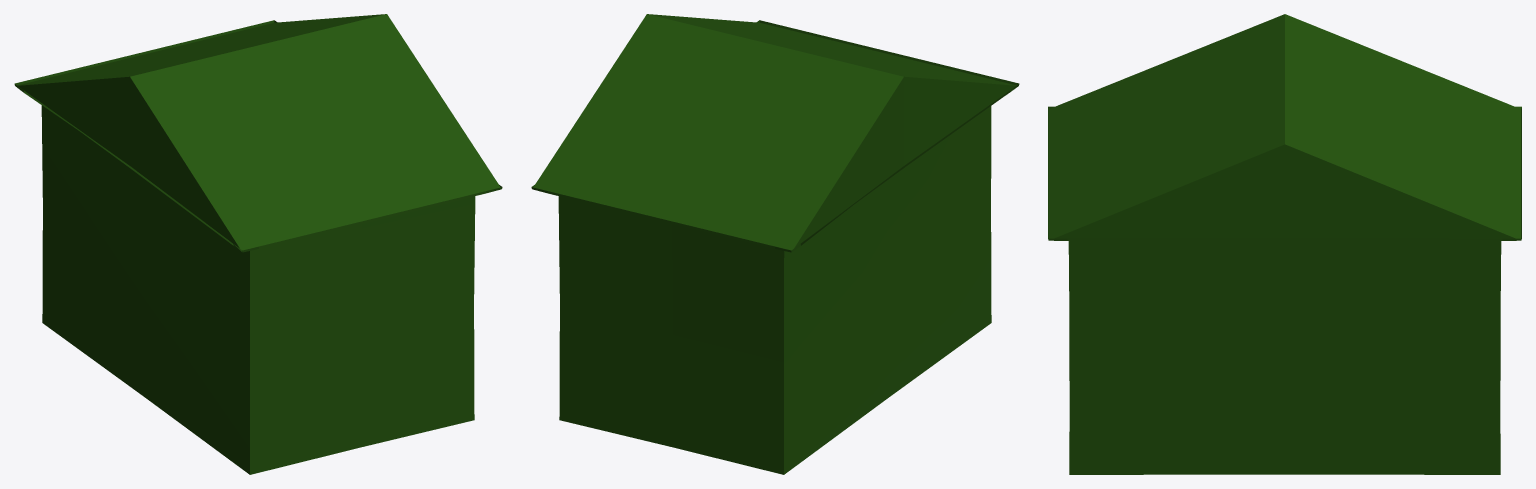
Rendered from house_new.fbx.
3 renders of one model, left to right at view 1: azimuth 30°, elevation 25°; view 2: azimuth 150°, elevation 25°; view 3: azimuth 270°, elevation 25°, orthographic. The views are drawn at different scales.
Parts seen in each view (by area): view 1: house; view 2: house; view 3: house.
Part boxes in pixels (x1,y1,x2,y2): house: (14, 14, 502, 474); house: (531, 14, 1019, 474); house: (1048, 14, 1521, 474).
Bounding box in the file's own units: 22.9 × 27.46 × 34.79.
